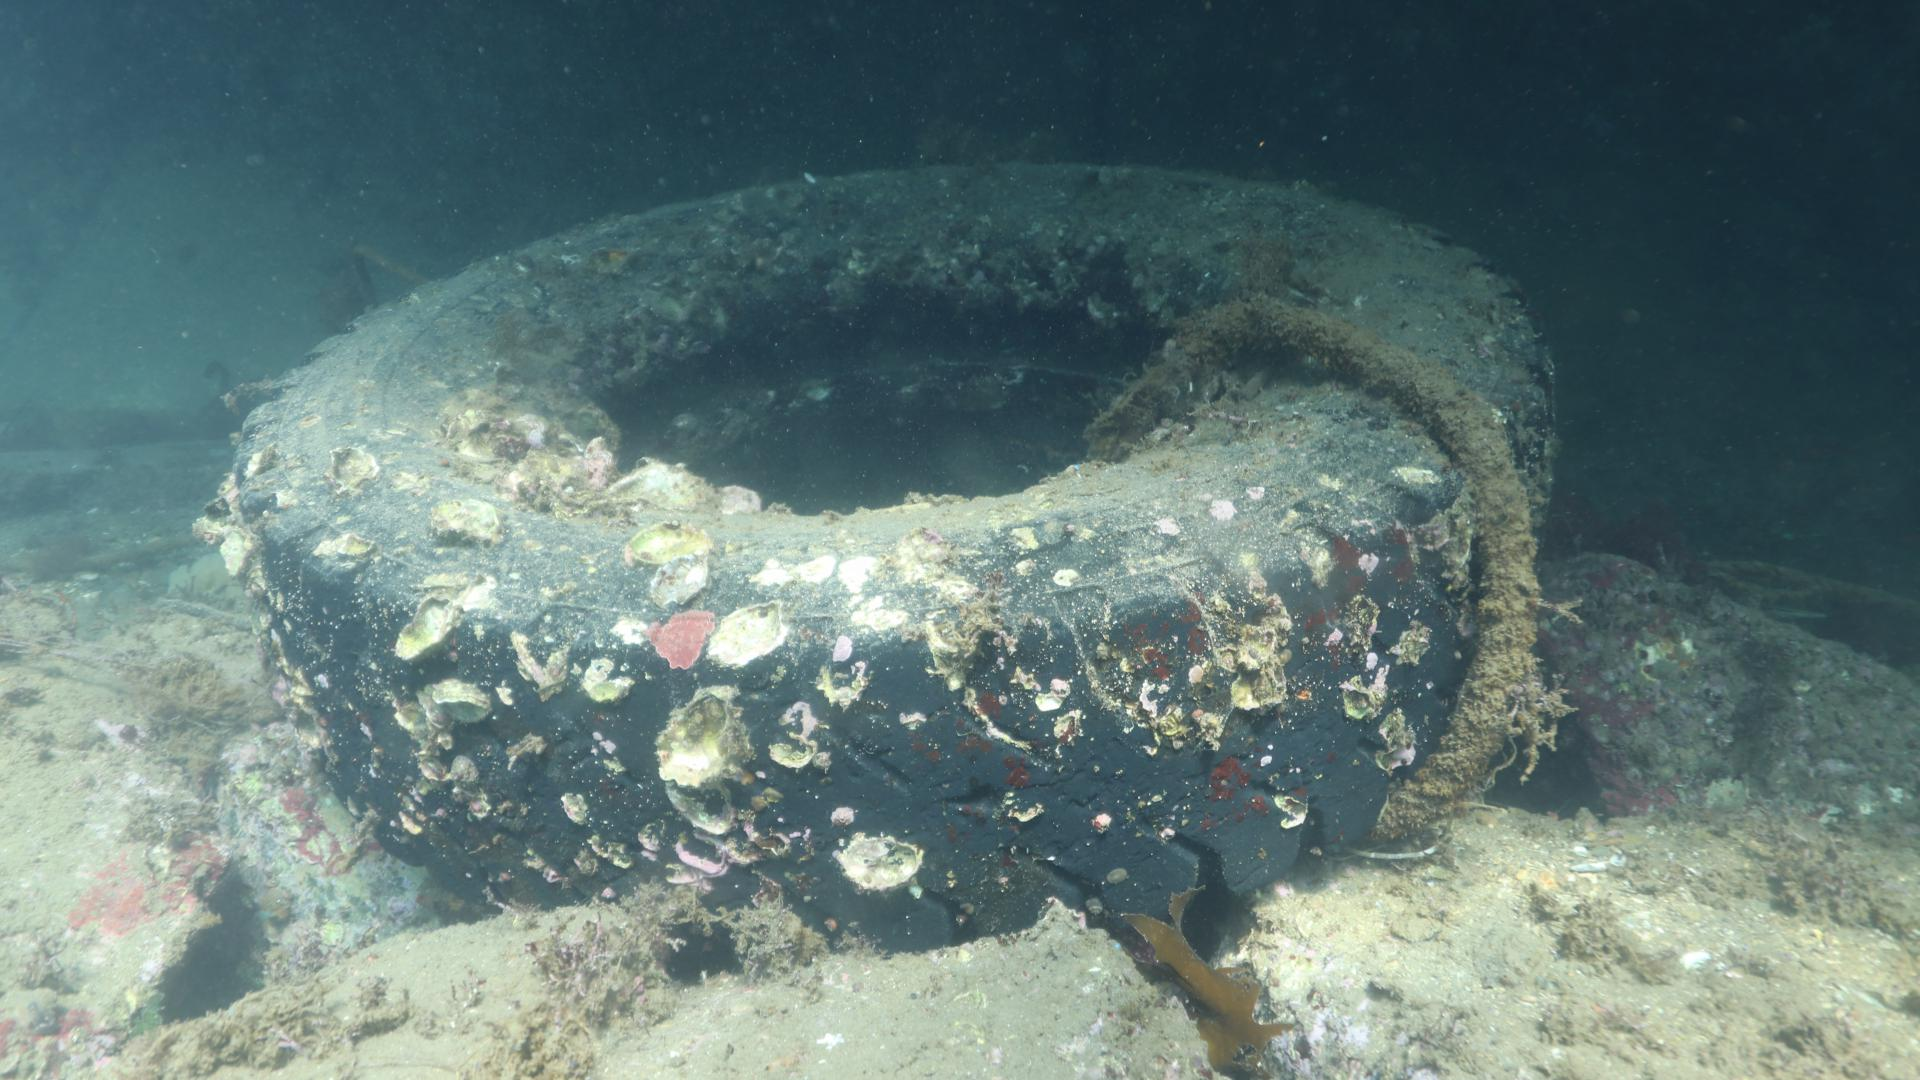rope: (1080, 295, 1544, 858)
tire: (229, 156, 1565, 980)
